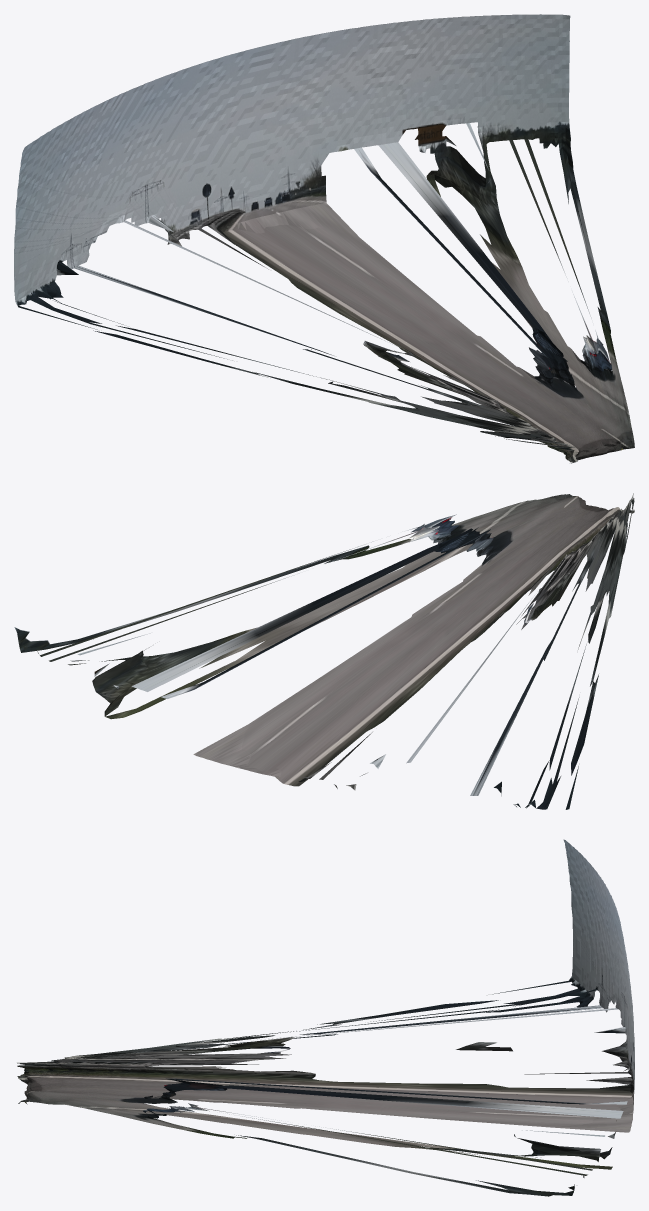
3 views of the same model, one above another, from view 1: azimuth 30°, elevation 25°; view 2: azimuth 150°, elevation 25°; view 3: azimuth 270°, elevation 25° (orthographic). The views are drawn at different scales.
Visible parts, largest first — view 1: defaultobject; view 2: defaultobject; view 3: defaultobject.
Part boxes in pixels (x1,y1,x2,y2): defaultobject: [14, 14, 634, 463]; defaultobject: [14, 493, 634, 809]; defaultobject: [17, 839, 634, 1196].
Size of the model in its own units: 41.14 by 12.85 by 44.86.
1 material, 1 textured.
